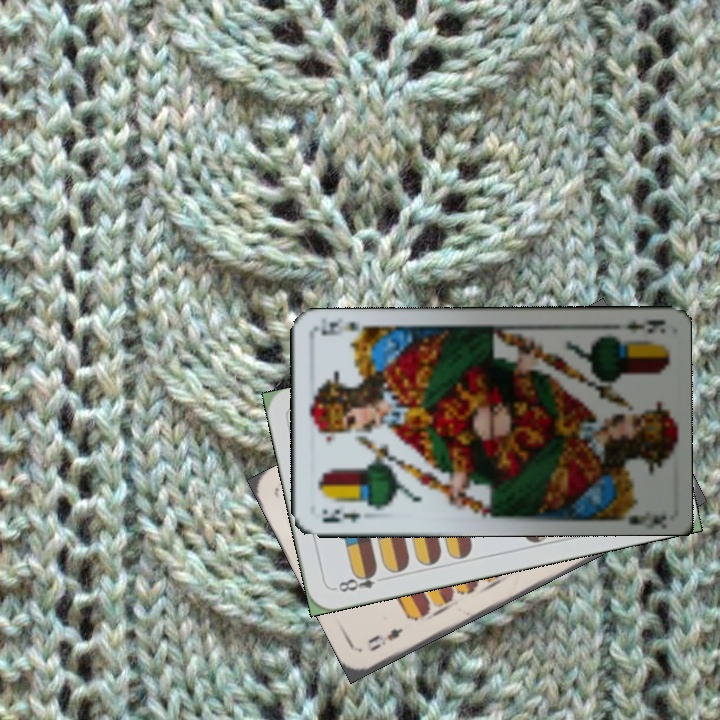E8: (330, 566, 380, 595)
E9: (364, 623, 406, 654)
EK: (318, 504, 363, 526), (622, 315, 664, 337)
